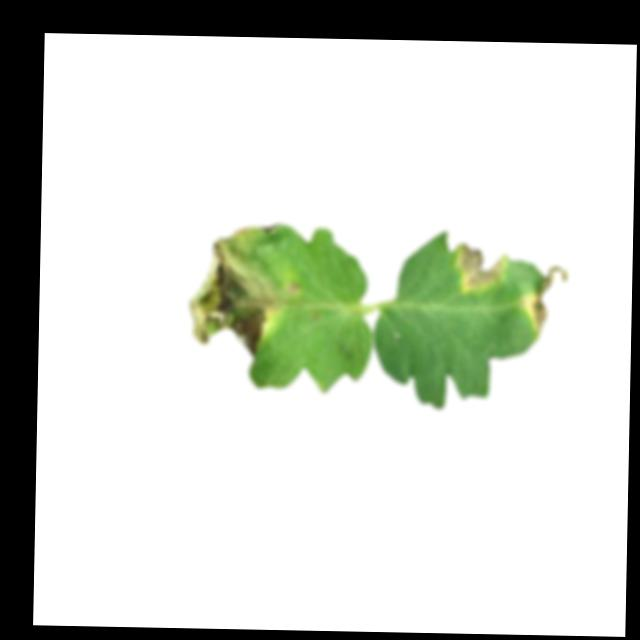Late_blight: (186, 222, 300, 358), (520, 263, 569, 337), (458, 241, 510, 292)
